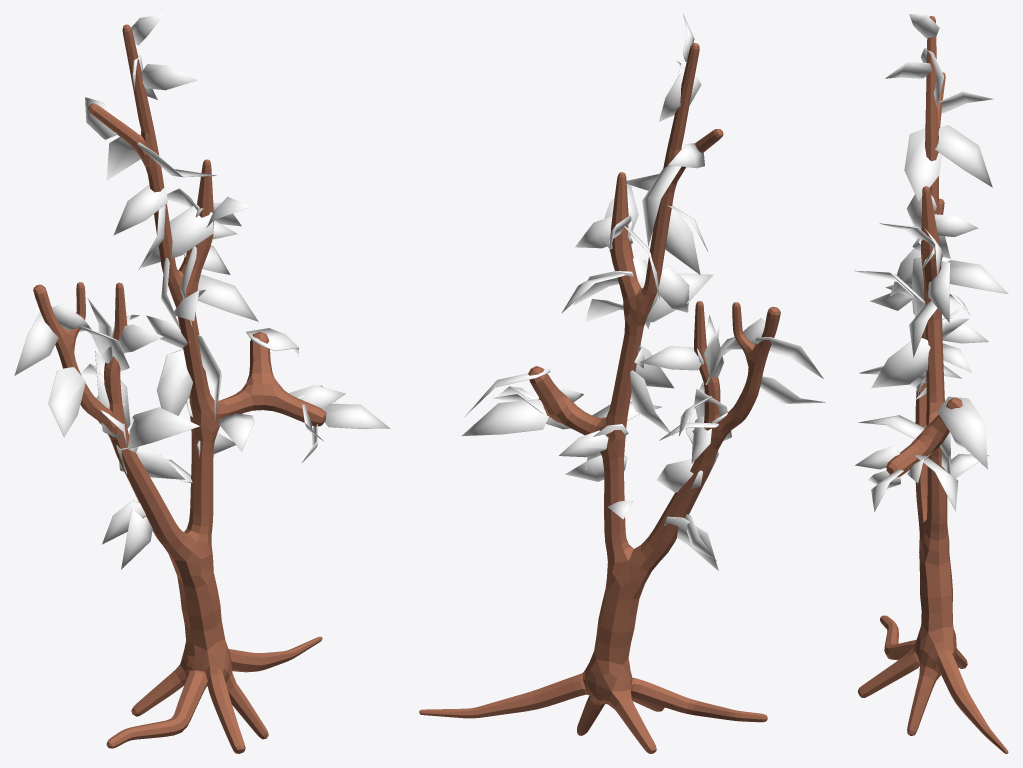
Rendered from Tree1.fbx.
3 renders of one model, left to right at view 1: azimuth 30°, elevation 25°; view 2: azimuth 150°, elevation 25°; view 3: azimuth 270°, elevation 25°, orthographic. The views are drawn at different scales.
Parts seen in each view (by area): view 1: Tree1, Tree1_Leafes; view 2: Tree1, Tree1_Leafes; view 3: Tree1_Leafes, Tree1.
Part boxes in pixels (x1,y1,x2,y2): Tree1: (33, 24, 326, 753); Tree1_Leafes: (14, 14, 390, 569); Tree1: (419, 43, 780, 753); Tree1_Leafes: (461, 14, 825, 570); Tree1_Leafes: (854, 14, 1008, 511); Tree1: (858, 16, 1008, 753).
Bounding box in the file's own units: 242 × 486 × 100.
